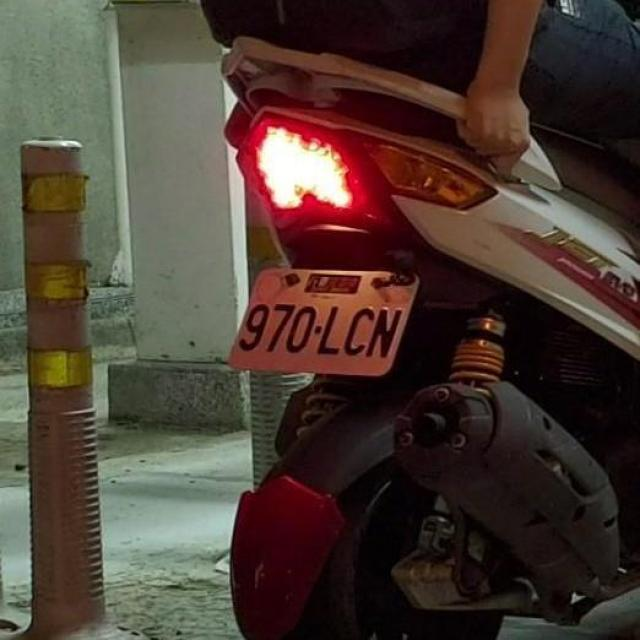W: (224, 243, 426, 391)
